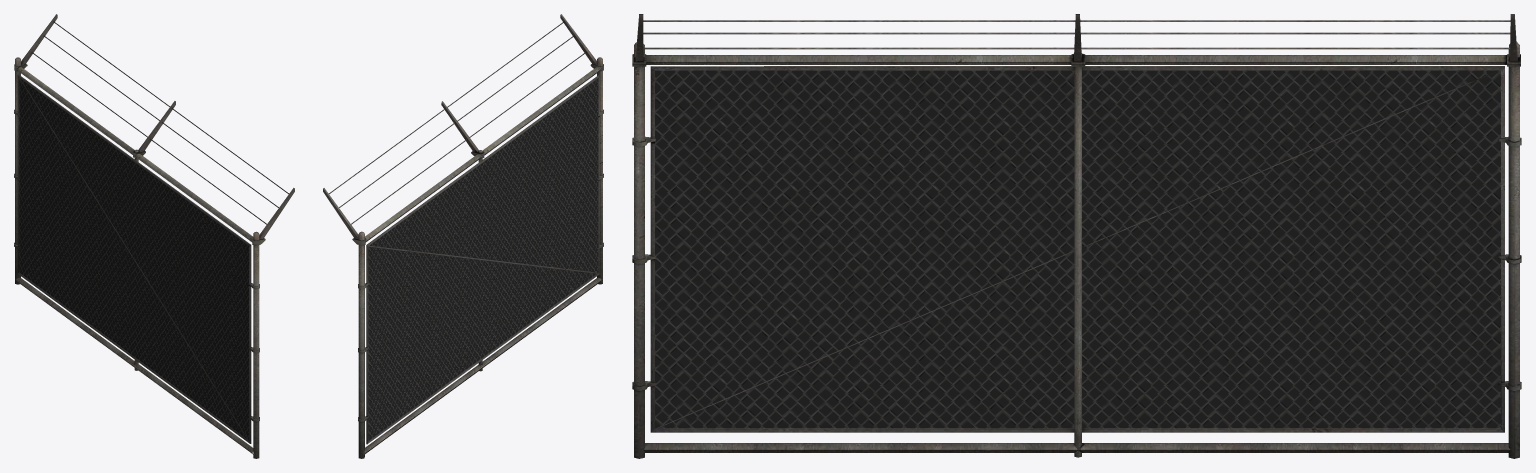
The model's file is exterior_fence002d.glb.
3 views of the same model, side by side, from view 1: azimuth 30°, elevation 25°; view 2: azimuth 150°, elevation 25°; view 3: azimuth 270°, elevation 25° (orthographic). The views are drawn at different scales.
Visible parts, largest first — view 1: 1_fence_alpha, 0_fence_sheet01; view 2: 1_fence_alpha, 0_fence_sheet01; view 3: 1_fence_alpha, 0_fence_sheet01.
Boxes of the visible parts, box(x1,y1,x2,y2) form: 1_fence_alpha: box(19, 79, 248, 439); 0_fence_sheet01: box(14, 14, 294, 458); 1_fence_alpha: box(368, 78, 598, 440); 0_fence_sheet01: box(323, 14, 603, 458); 1_fence_alpha: box(655, 70, 1500, 428); 0_fence_sheet01: box(632, 14, 1521, 458).
Size of the model in its own units: 0.6618 by 3.86 by 6.53.
2 materials, 2 textured.
